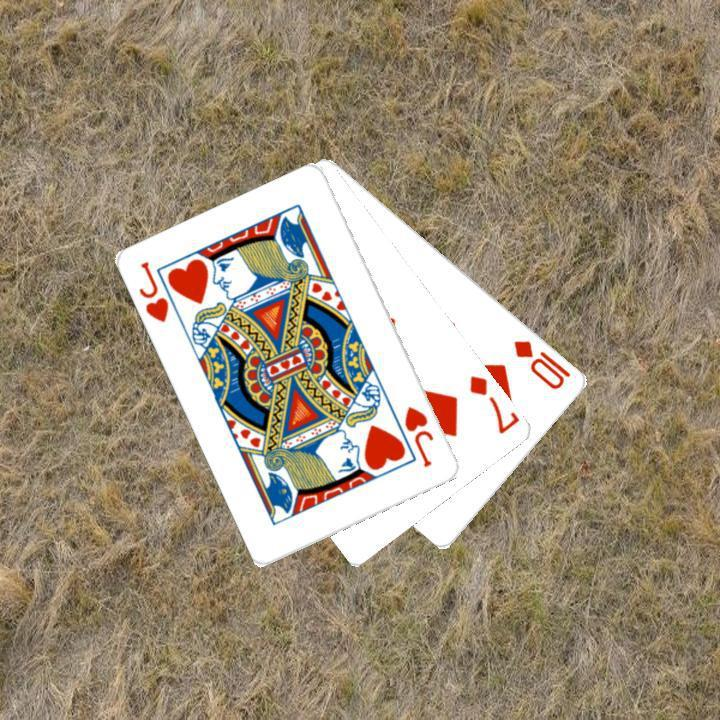10: (510, 335, 573, 392)
7: (465, 370, 520, 437)
J: (135, 257, 172, 325), (400, 402, 436, 470)
